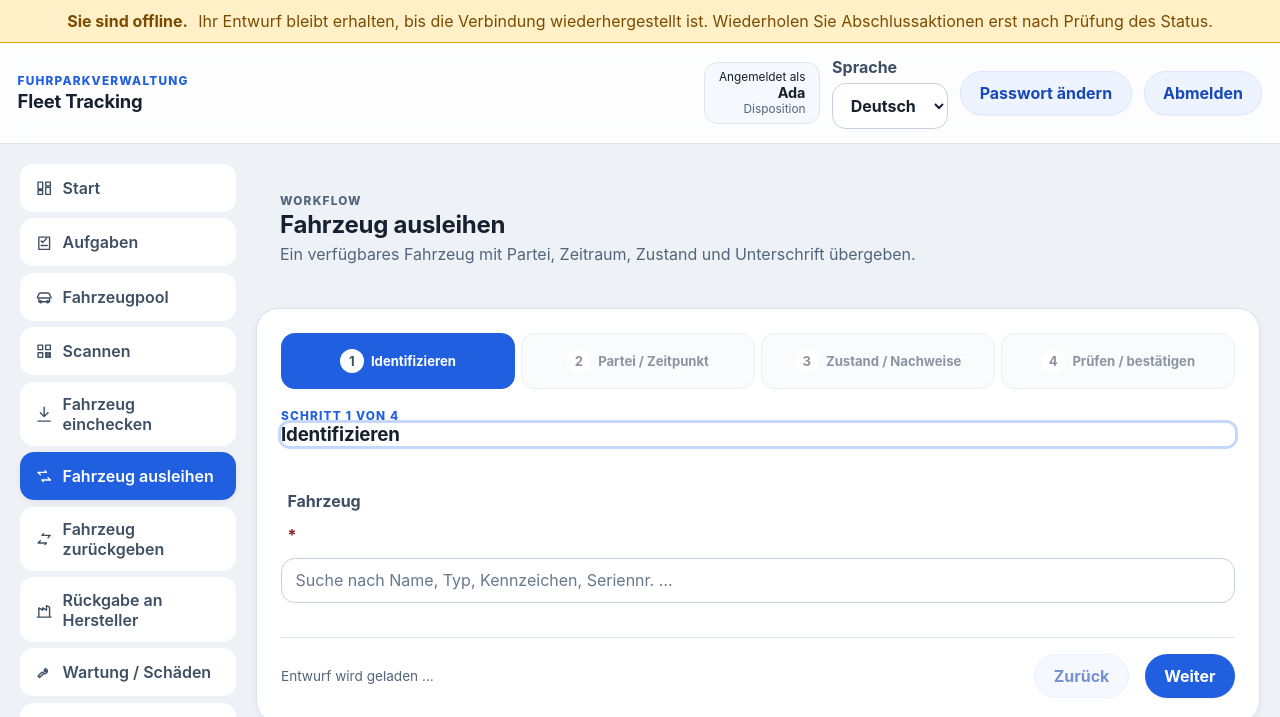
Scenario: App smoke flow › shows field-level validation on the loan checkout workflow
Expected: the heading "Fahrzeug ausleihen" is shown, [280,210,505,238]
What coordinates should you click on to do the following:
click the button "Weiter"
I would click on:
 (1190, 676)
Its box is [1145,654,1235,698].
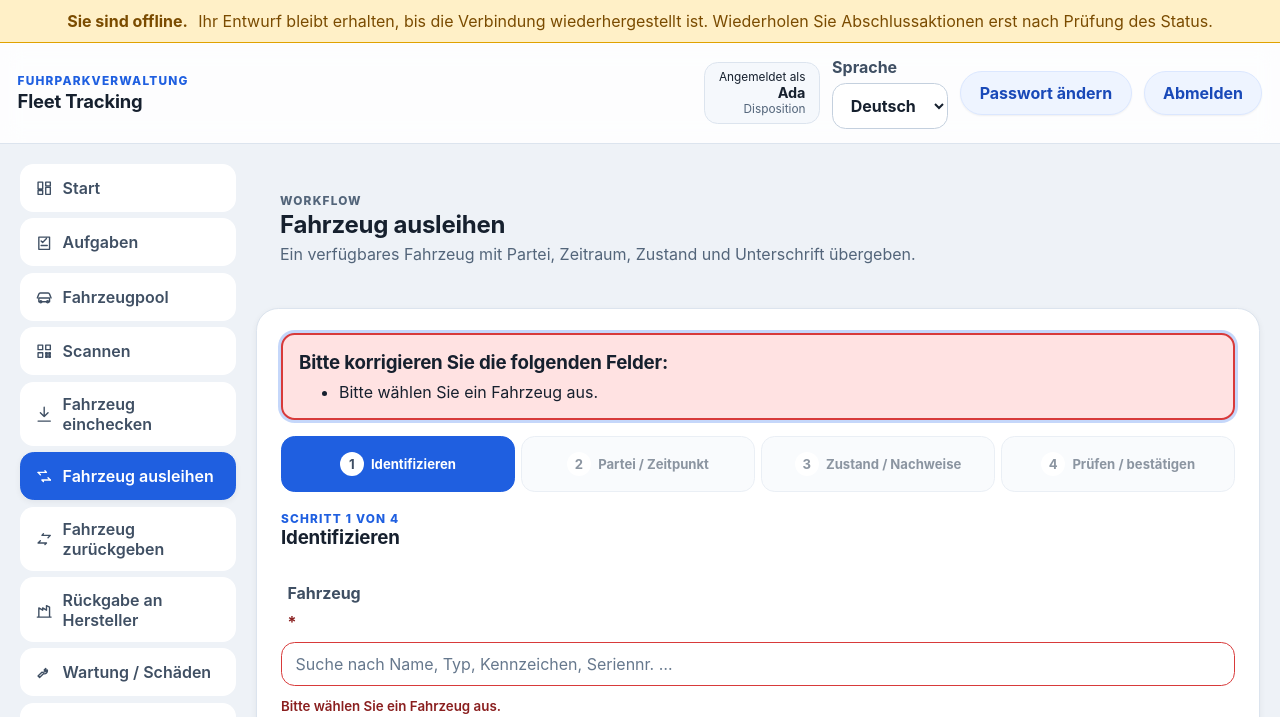
Now the list item "Bitte wählen Sie ein Fahrzeug aus." is shown, box [339,382,598,402]
